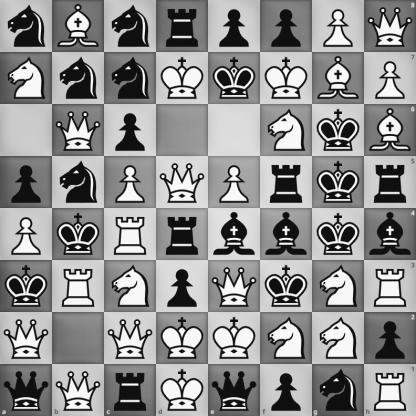B: (364, 104, 416, 156), (53, 1, 104, 52), (313, 53, 364, 104)
K: (156, 364, 209, 416), (157, 53, 208, 104), (157, 313, 208, 364), (209, 313, 260, 364), (261, 53, 312, 104)
N: (1, 53, 52, 104), (105, 261, 156, 312), (261, 105, 312, 156), (261, 313, 312, 364), (313, 261, 364, 312), (313, 313, 364, 364)
P: (364, 52, 416, 104), (1, 209, 52, 260), (105, 157, 156, 208), (209, 157, 260, 208), (313, 1, 364, 52)
Q: (52, 364, 104, 416), (364, 0, 416, 52), (1, 313, 52, 364), (53, 105, 104, 156), (105, 313, 156, 364), (157, 157, 208, 208), (209, 261, 260, 312)
R: (364, 260, 416, 312), (364, 364, 416, 416), (53, 261, 104, 312), (105, 209, 156, 260)
b: (364, 209, 416, 260), (209, 209, 260, 260), (261, 209, 312, 260)
board: (0, 0, 415, 415)
k: (1, 261, 52, 312), (53, 209, 104, 260), (209, 53, 260, 104), (261, 261, 312, 312), (313, 105, 364, 156), (313, 157, 364, 208), (313, 209, 364, 260)
n: (312, 364, 364, 416), (1, 1, 52, 52), (53, 53, 104, 104), (53, 157, 104, 208), (105, 1, 156, 52), (105, 53, 156, 104)
p: (260, 364, 312, 416), (364, 312, 416, 364), (1, 157, 52, 208), (105, 105, 156, 156), (157, 261, 208, 312), (209, 1, 260, 52), (261, 1, 312, 52)
q: (0, 364, 52, 416), (209, 364, 260, 416)
r: (364, 156, 416, 209), (104, 364, 156, 416), (157, 1, 208, 52), (157, 209, 208, 260), (261, 157, 312, 208)
